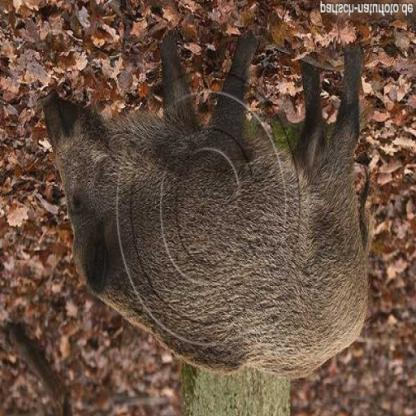boar: (44, 34, 415, 370)
